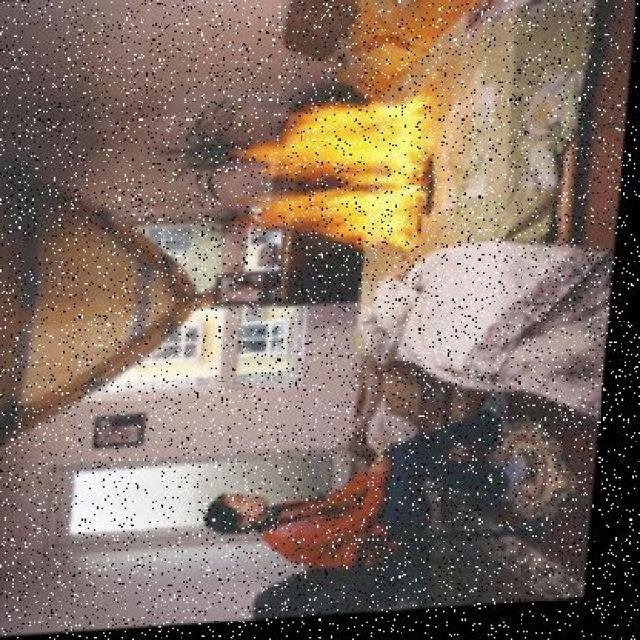fire: (242, 85, 433, 268)
